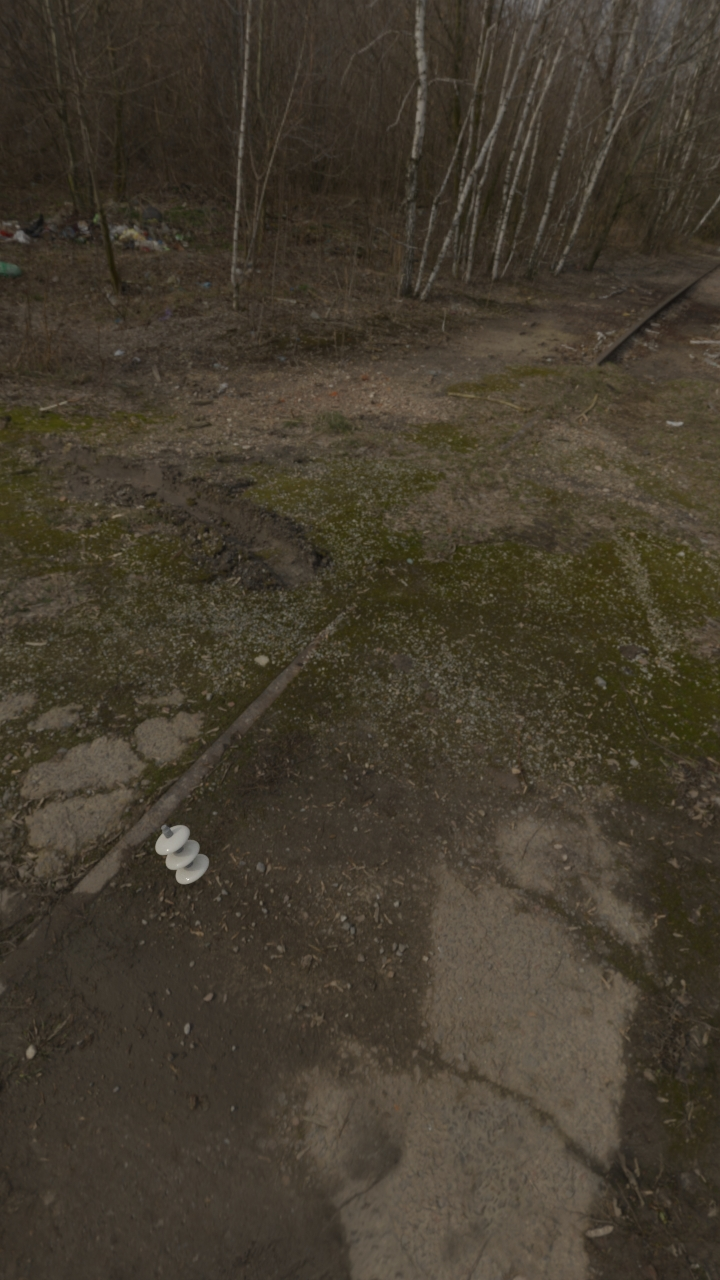ceramicinsulators: (156, 824, 209, 885)
